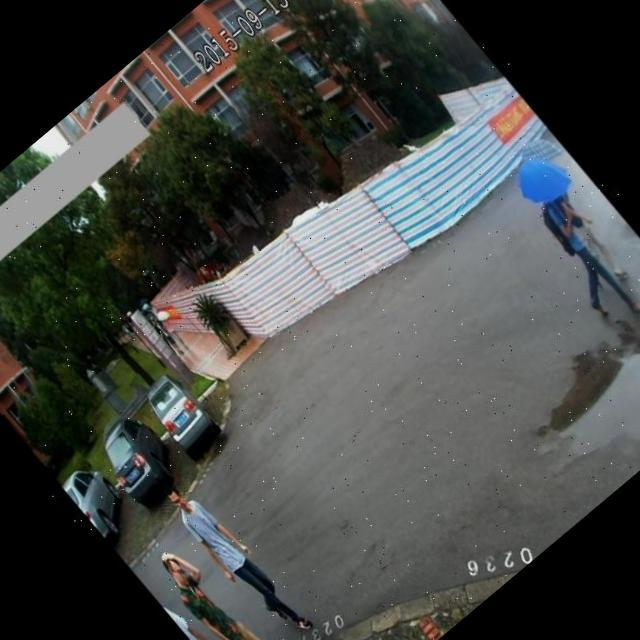person: (154, 468, 317, 640), (490, 160, 640, 341), (147, 524, 344, 640), (521, 145, 640, 282)
